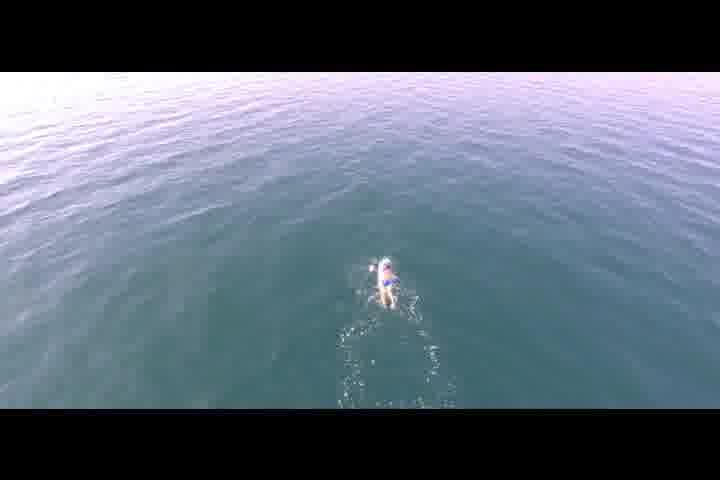swimmer: (368, 255, 406, 310)
